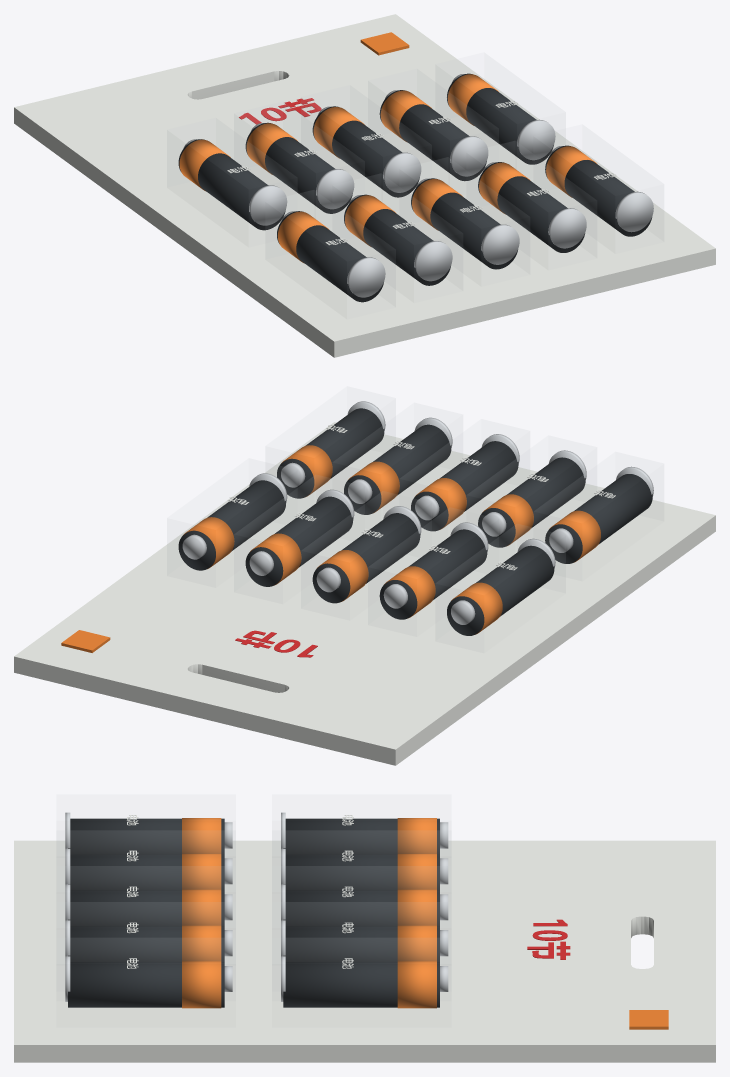
Rendered from batteries.glb.
3 views of the same model, one above another, from view 1: azimuth 30°, elevation 25°; view 2: azimuth 150°, elevation 25°; view 3: azimuth 270°, elevation 25° (orthographic). The views are drawn at different scales.
Parts seen in each view (by area): view 1: Battery retail backing card, Battery 3 AA body, Battery 8 AA body, Battery 6 AA body, Battery 4 AA body, Battery 1 AA body, Battery 5 AA body, Battery 7 AA body, Battery 10 AA body, Battery 2 AA body, Battery 9 AA body, Battery 4 negative terminal (+21 smaller); view 2: Battery retail backing card, Battery 9 AA body, Battery 6 AA body, Battery 7 AA body, Battery 8 AA body, Battery 10 AA body, Battery 2 AA body, Battery 5 AA body, Battery 4 AA body, Battery 3 AA body, Battery 1 AA body, Battery 4 gold band (+11 smaller); view 3: Battery retail backing card, Battery 10 AA body, Battery 5 AA body, Battery 8 AA body, Battery 7 AA body, Battery 6 AA body, Battery 3 AA body, Battery 2 AA body, Battery 1 AA body, Battery 9 AA body, Battery 4 AA body, Battery 5 gold band (+11 smaller).
Part boxes in pixels (x1=…): Battery retail backing card: x1=14, y1=14, x2=715, y2=357; Battery 3 AA body: x1=411, y1=178, x2=518, y2=269; Battery 8 AA body: x1=312, y1=106, x2=419, y2=197; Battery 6 AA body: x1=178, y1=139, x2=285, y2=230; Battery 4 AA body: x1=478, y1=162, x2=585, y2=252; Battery 1 AA body: x1=277, y1=211, x2=383, y2=302; Battery 5 AA body: x1=545, y1=145, x2=652, y2=236; Battery 7 AA body: x1=245, y1=122, x2=352, y2=213; Battery 10 AA body: x1=447, y1=73, x2=553, y2=164; Battery 2 AA body: x1=344, y1=194, x2=450, y2=285; Battery 9 AA body: x1=379, y1=90, x2=486, y2=181; Battery 4 negative terminal: x1=548, y1=208, x2=586, y2=248; Battery retail backing card: x1=14, y1=422, x2=715, y2=765; Battery 9 AA body: x1=245, y1=496, x2=353, y2=586; Battery 6 AA body: x1=447, y1=545, x2=554, y2=635; Battery 7 AA body: x1=379, y1=529, x2=487, y2=619; Battery 8 AA body: x1=312, y1=513, x2=420, y2=603; Battery 10 AA body: x1=178, y1=480, x2=285, y2=570; Battery 2 AA body: x1=478, y1=457, x2=585, y2=547; Battery 5 AA body: x1=277, y1=408, x2=384, y2=498; Battery 4 AA body: x1=344, y1=424, x2=451, y2=514; Battery 3 AA body: x1=411, y1=441, x2=518, y2=531; Battery 1 AA body: x1=545, y1=474, x2=652, y2=563; Battery 4 gold band: x1=348, y1=461, x2=399, y2=513; Battery retail backing card: x1=14, y1=840, x2=715, y2=1062; Battery 10 AA body: x1=283, y1=962, x2=439, y2=1007; Battery 5 AA body: x1=68, y1=962, x2=224, y2=1007; Battery 8 AA body: x1=283, y1=890, x2=439, y2=926; Battery 7 AA body: x1=283, y1=854, x2=439, y2=890; Battery 6 AA body: x1=283, y1=818, x2=439, y2=854; Battery 3 AA body: x1=68, y1=890, x2=224, y2=926; Battery 2 AA body: x1=68, y1=854, x2=224, y2=890; Battery 1 AA body: x1=68, y1=818, x2=224, y2=854; Battery 9 AA body: x1=283, y1=926, x2=439, y2=961; Battery 4 AA body: x1=68, y1=926, x2=224, y2=961; Battery 5 gold band: x1=182, y1=961, x2=221, y2=1008.
Bounding box in the file's own units: 0.148 × 0.0275 × 0.215.
